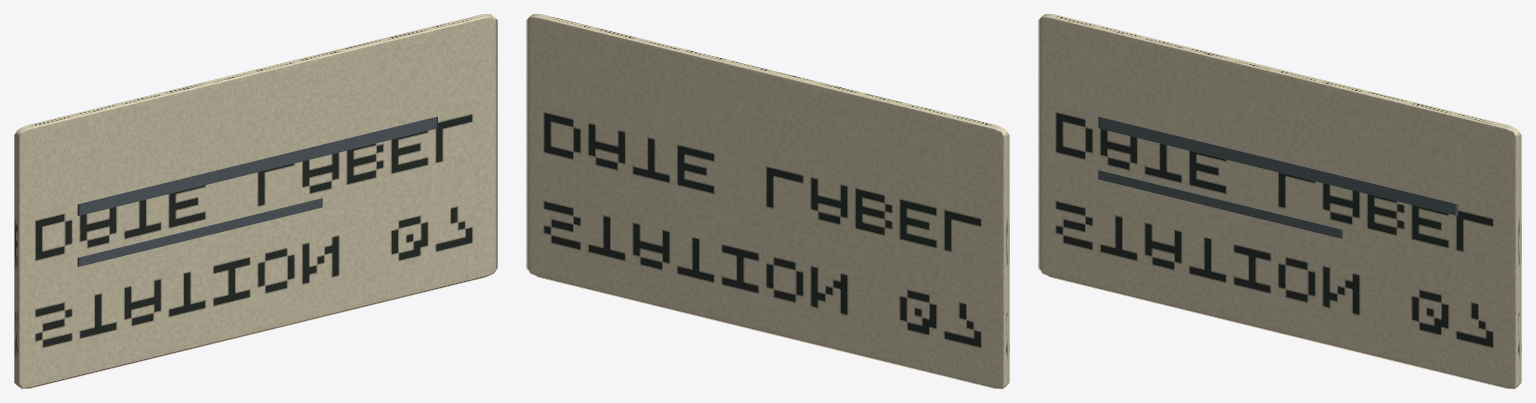
File: date-label.glb
3 renders of one model, left to right at view 1: azimuth 30°, elevation 25°; view 2: azimuth 150°, elevation 25°; view 3: azimuth 330°, elevation 25°, orthographic.
Visible parts, largest first — view 1: board, stripe, line; view 2: board; view 3: board, stripe, line.
Part boxes in pixels (<box>): board: <box>14,14,497,388</box>; stripe: <box>77,116,437,215</box>; line: <box>77,198,322,266</box>; board: <box>526,14,1009,388</box>; board: <box>1038,14,1521,388</box>; stripe: <box>1098,116,1458,215</box>; line: <box>1098,170,1342,238</box>.
Bounding box in the file's own units: 0.05 × 0.026 × 0.00068.
Materials: 2 (2 with a texture image).
